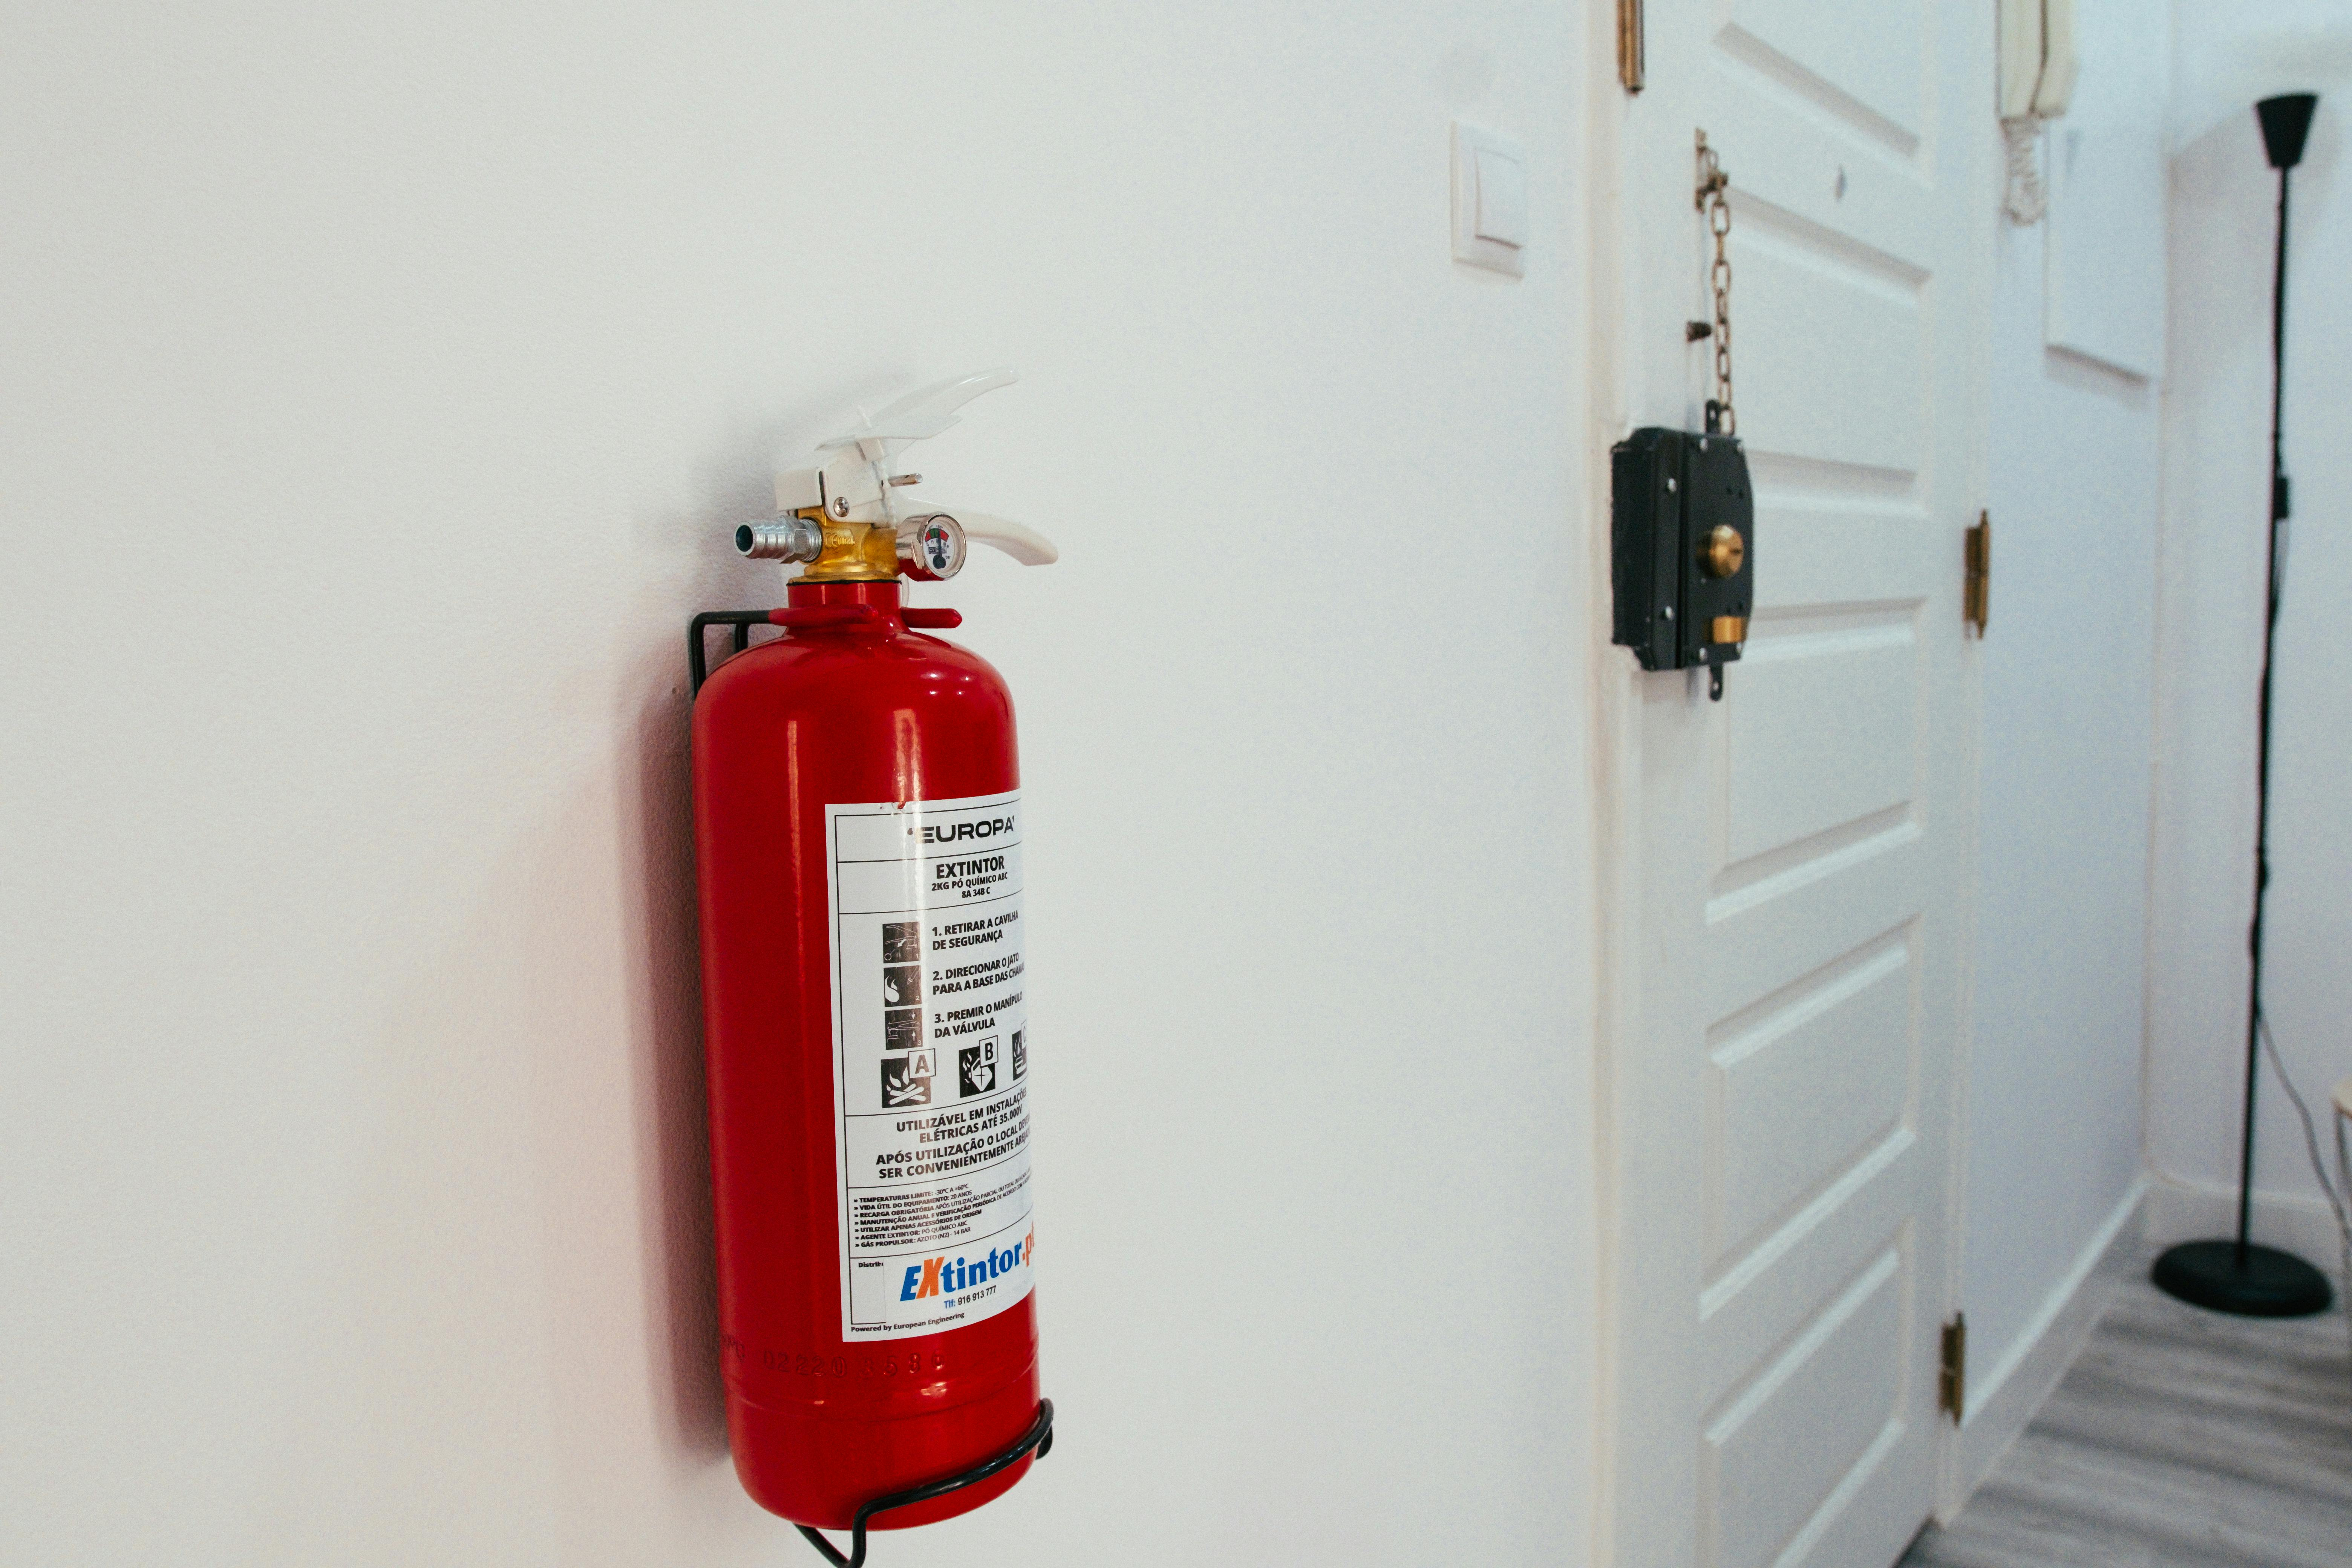extintor: (684, 361, 1055, 1536)
